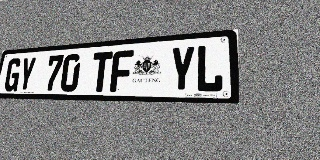0: (60, 54, 81, 92)
7: (43, 55, 64, 92)
F: (110, 50, 134, 92)
G: (3, 58, 22, 92)
L: (195, 44, 224, 92)
T: (90, 51, 113, 92)
Y: (168, 46, 196, 92), (17, 57, 37, 92)
